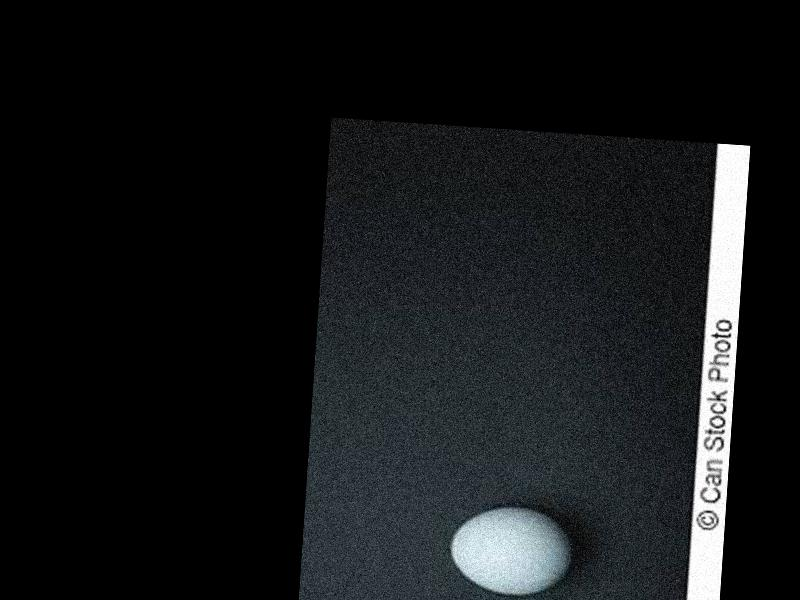Eggs: (447, 503, 573, 600)
